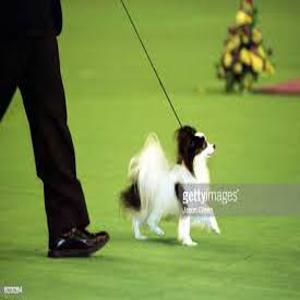yell: (119, 125, 221, 245)
